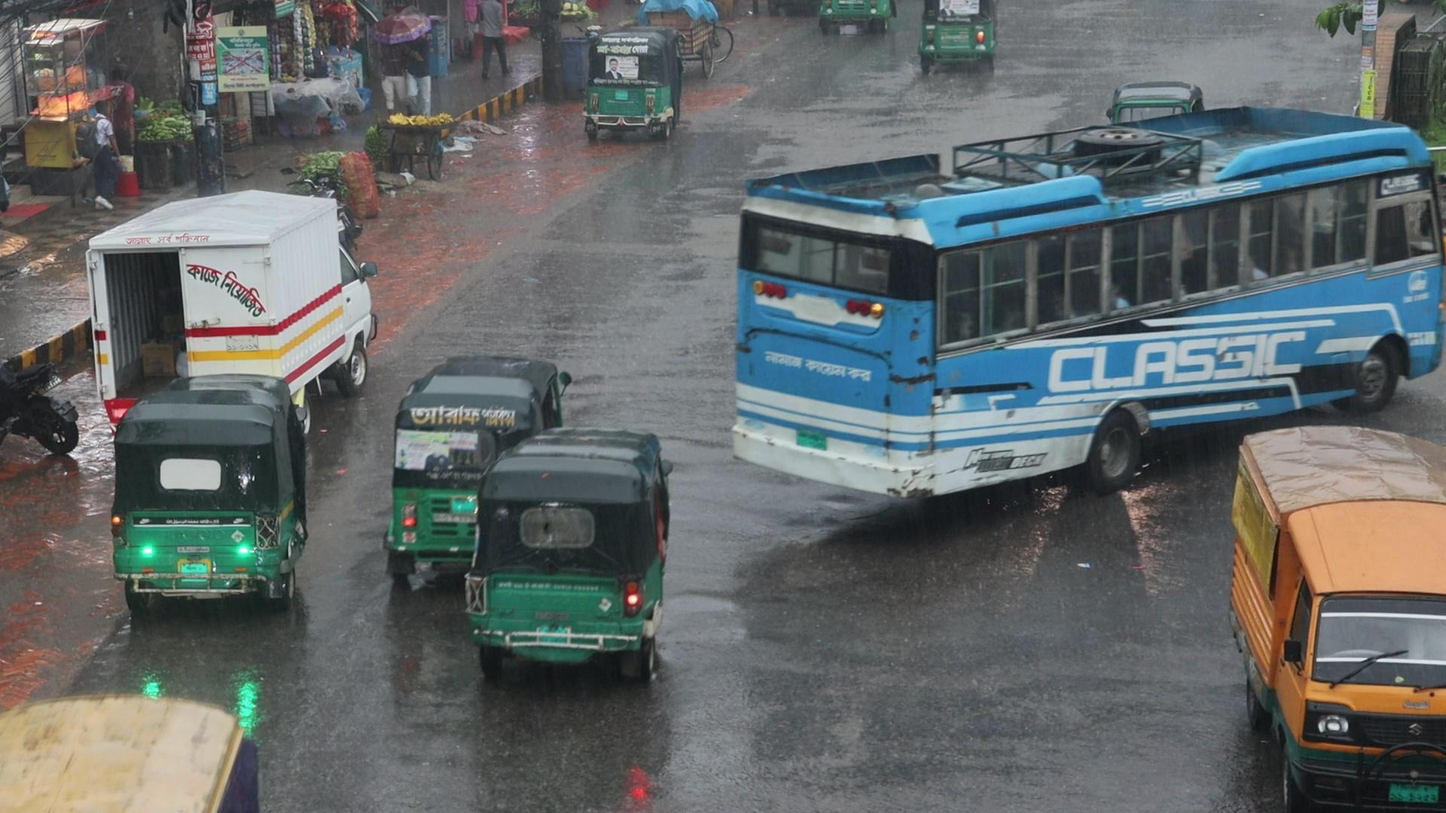Bus: (729, 99, 1446, 504)
Truck: (1200, 390, 1446, 775)
